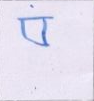anusvara: (30, 5, 34, 8)
